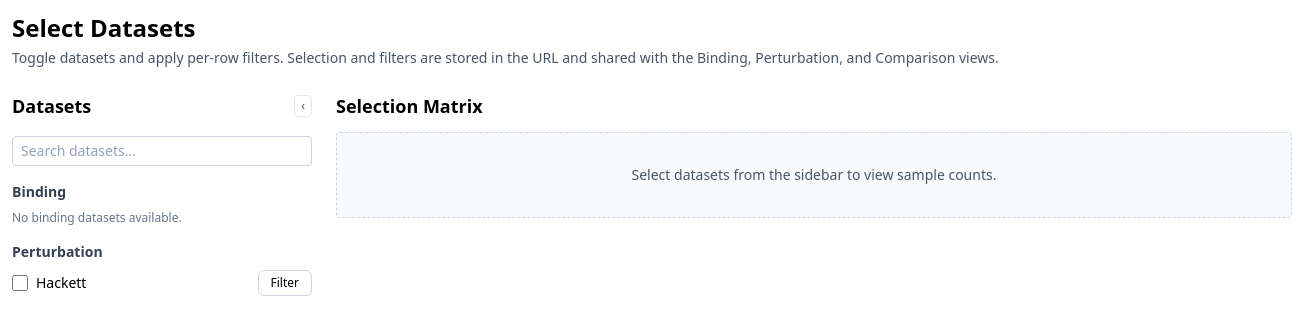
Select route › sidebar collapse toggles ?selectSidebar= and hides the dataset list (row 23)
expect the text "Hackett" is shown: met, box [36,273,86,293]
Click the button with test id "sidebar-toggle": (303, 106) [294,95,312,117]
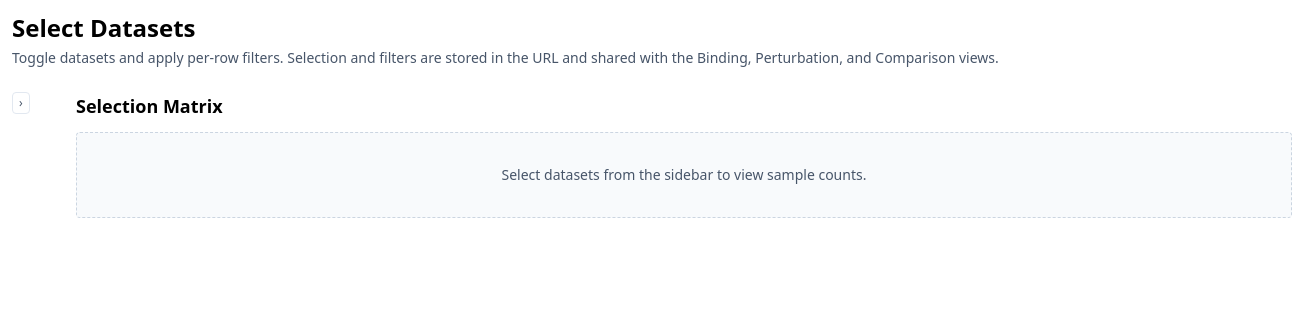
expect the text "Hackett" is gone: met
expect the search field with test id "sidebar-search" is gone: met
